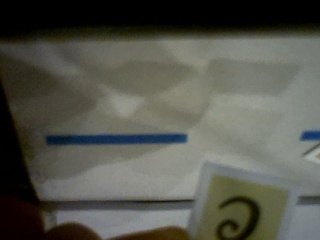C: (196, 173, 291, 240)
